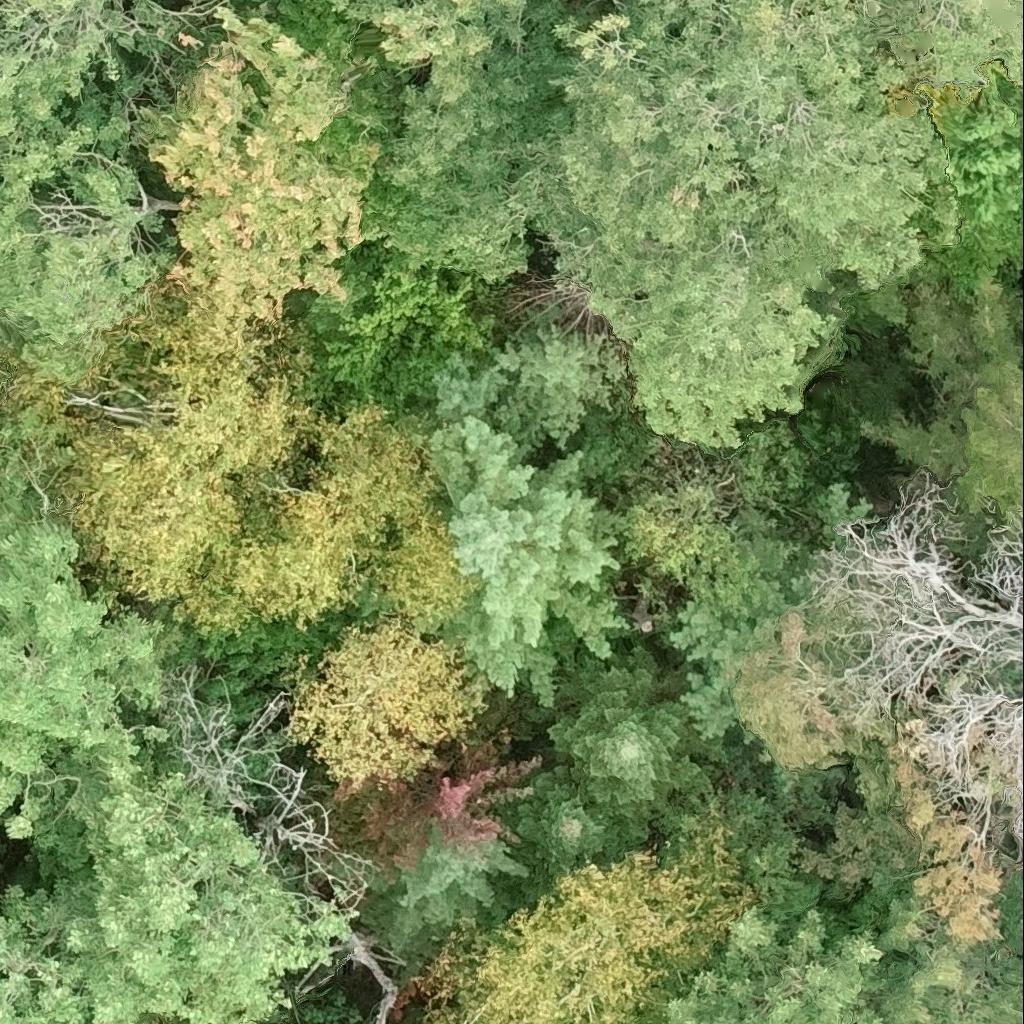crown: (642, 0, 961, 297), (33, 731, 351, 1023), (132, 0, 404, 323), (0, 406, 169, 841), (530, 0, 783, 274), (429, 827, 758, 1023), (9, 366, 282, 600), (414, 417, 635, 705), (587, 248, 839, 451), (0, 98, 180, 382), (100, 282, 329, 484), (859, 280, 1023, 521), (280, 612, 486, 791), (547, 645, 727, 846), (174, 481, 380, 647), (309, 242, 502, 413), (0, 0, 230, 138), (329, 728, 541, 874), (358, 819, 535, 985), (433, 304, 626, 455), (652, 906, 886, 1023), (324, 0, 550, 100), (311, 397, 448, 542), (862, 0, 1023, 102), (516, 766, 631, 899), (368, 502, 482, 632), (0, 882, 95, 1023), (437, 1014, 473, 1023), (87, 1017, 96, 1023), (1021, 891, 1023, 917)
